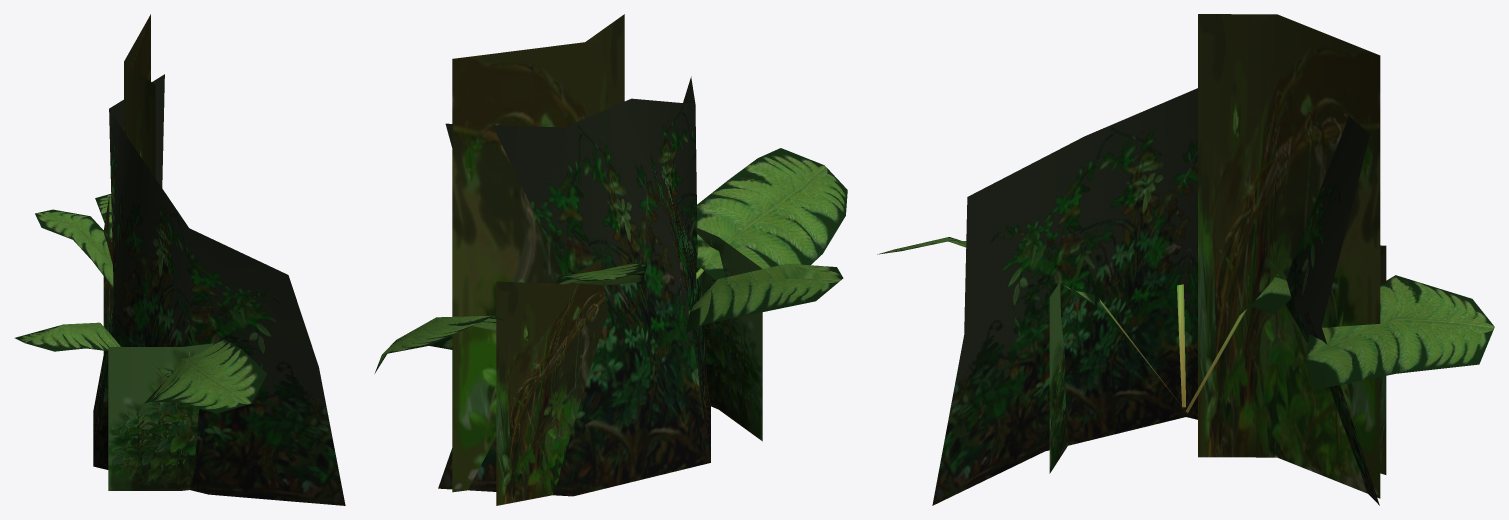
File: bush_half_a.fbx
3 views of the same model, side by side, from view 1: azimuth 30°, elevation 25°; view 2: azimuth 150°, elevation 25°; view 3: azimuth 270°, elevation 25° (orthographic). The views are drawn at different scales.
Parts seen in each view (by area): view 1: vine, plant_plane_H_04, Leaf_H_01, plant_plane_H_06, Leaf_H_02, Leaf_H_04, plant_plane_H_07; view 2: vine, plant_plane_H_06, plant_plane_H_07, Leaf_H_01, plant_plane_H_04, Leaf_H_04, Leaf_H_03, Leaf_H_02; view 3: vine, plant_plane_H_06, Leaf_H_03, plant_plane_H_04, Leaf_H_02, plant_plane_H_07, Leaf_H_01, Leaf_H_04.
Part boxes in pixels (x1=…): vine: x1=93, y1=74, x2=345, y2=505; plant_plane_H_04: x1=108, y1=343, x2=212, y2=490; Leaf_H_01: x1=144, y1=339, x2=266, y2=413; plant_plane_H_06: x1=124, y1=14, x2=155, y2=177; Leaf_H_02: x1=35, y1=209, x2=113, y2=289; Leaf_H_04: x1=15, y1=322, x2=121, y2=351; plant_plane_H_07: x1=103, y1=196, x2=113, y2=353; vine: x1=438, y1=76, x2=710, y2=496; plant_plane_H_06: x1=452, y1=14, x2=624, y2=492; plant_plane_H_07: x1=496, y1=259, x2=607, y2=505; Leaf_H_01: x1=696, y1=148, x2=847, y2=280; plant_plane_H_04: x1=697, y1=228, x2=762, y2=441; Leaf_H_04: x1=686, y1=263, x2=843, y2=332; Leaf_H_03: x1=374, y1=315, x2=503, y2=373; Leaf_H_02: x1=556, y1=262, x2=646, y2=285; vine: x1=932, y1=88, x2=1379, y2=505; plant_plane_H_06: x1=1198, y1=14, x2=1380, y2=498; Leaf_H_03: x1=1305, y1=275, x2=1494, y2=389; plant_plane_H_04: x1=1049, y1=281, x2=1067, y2=473; Leaf_H_02: x1=1185, y1=274, x2=1291, y2=412; plant_plane_H_07: x1=1380, y1=245, x2=1386, y2=474; Leaf_H_01: x1=877, y1=237, x2=1184, y2=409; Leaf_H_04: x1=1177, y1=284, x2=1185, y2=407.
Bounding box in the file's own units: 1705 × 2207 × 2793.
Materials: 2 (2 with a texture image).
